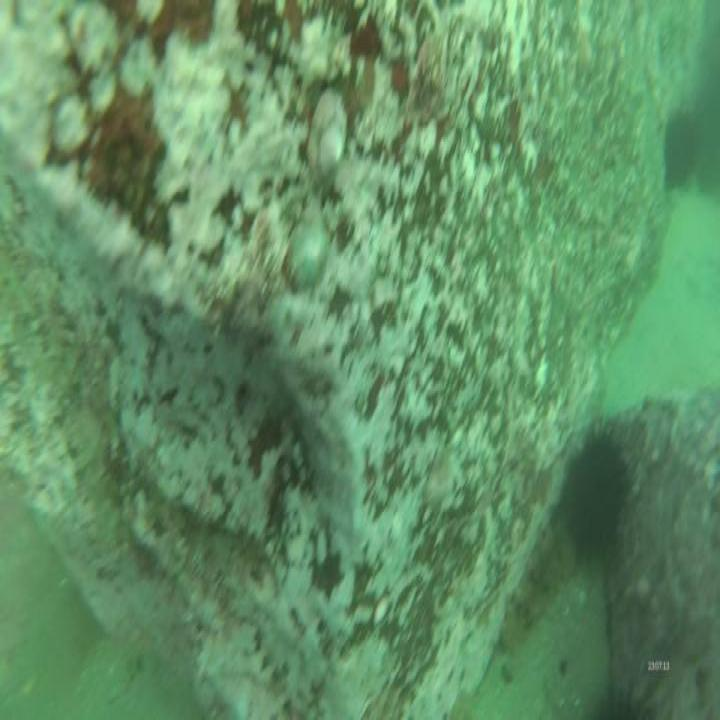echinus: (562, 421, 630, 571), (665, 102, 705, 198)
holothurian: (498, 526, 567, 651)
